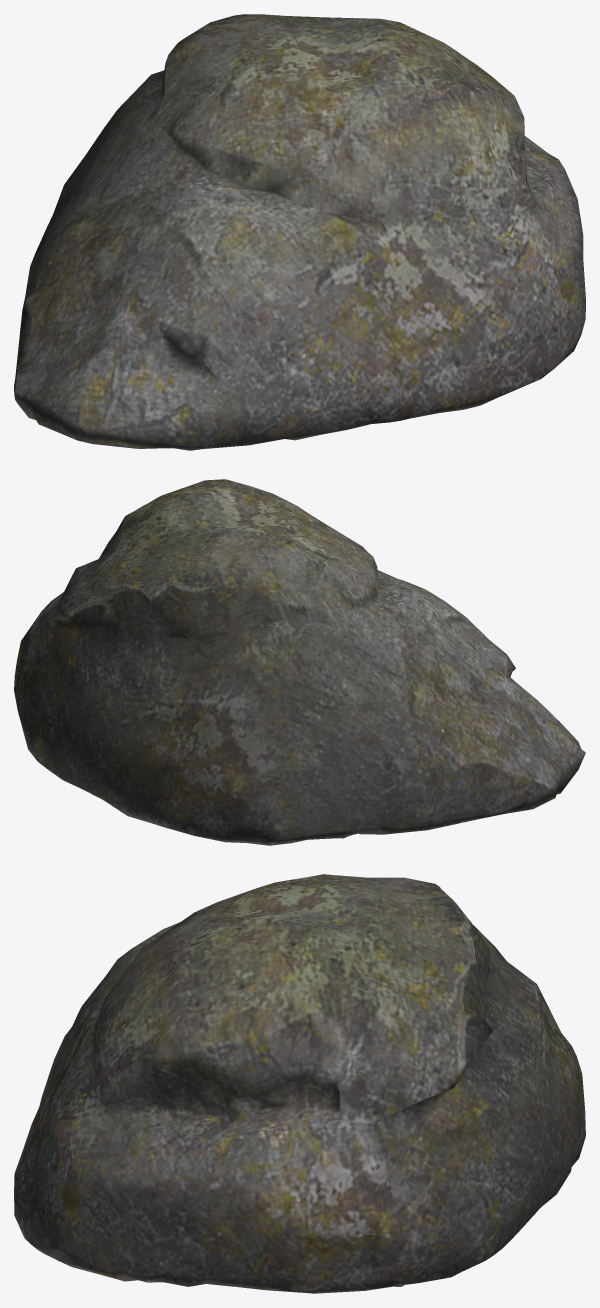
Rendered from Rock01.fbx.
3 renders of one model, top to bottom at view 1: azimuth 30°, elevation 25°; view 2: azimuth 150°, elevation 25°; view 3: azimuth 270°, elevation 25°, orthographic. The views are drawn at different scales.
Parts seen in each view (by area): view 1: Rock01; view 2: Rock01; view 3: Rock01.
Boxes of the visible parts, x1=… form: Rock01: x1=14, y1=14, x2=585, y2=450; Rock01: x1=14, y1=479, x2=585, y2=845; Rock01: x1=14, y1=874, x2=585, y2=1293.
Size of the model in its own units: 122 by 61.68 by 97.54.
Materials: 1 (1 with a texture image).
